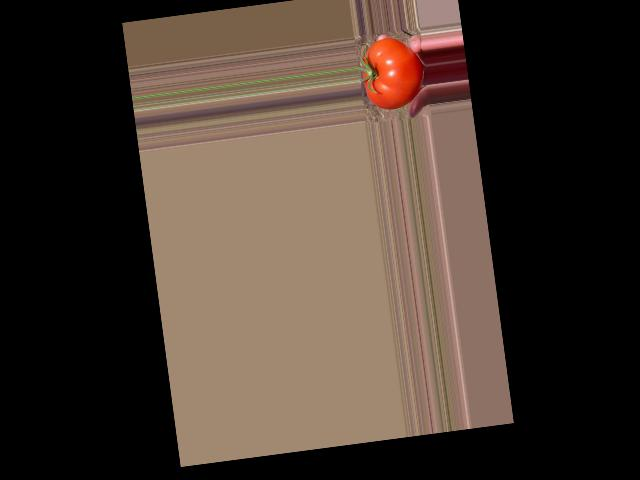tomato: (358, 34, 427, 111)
